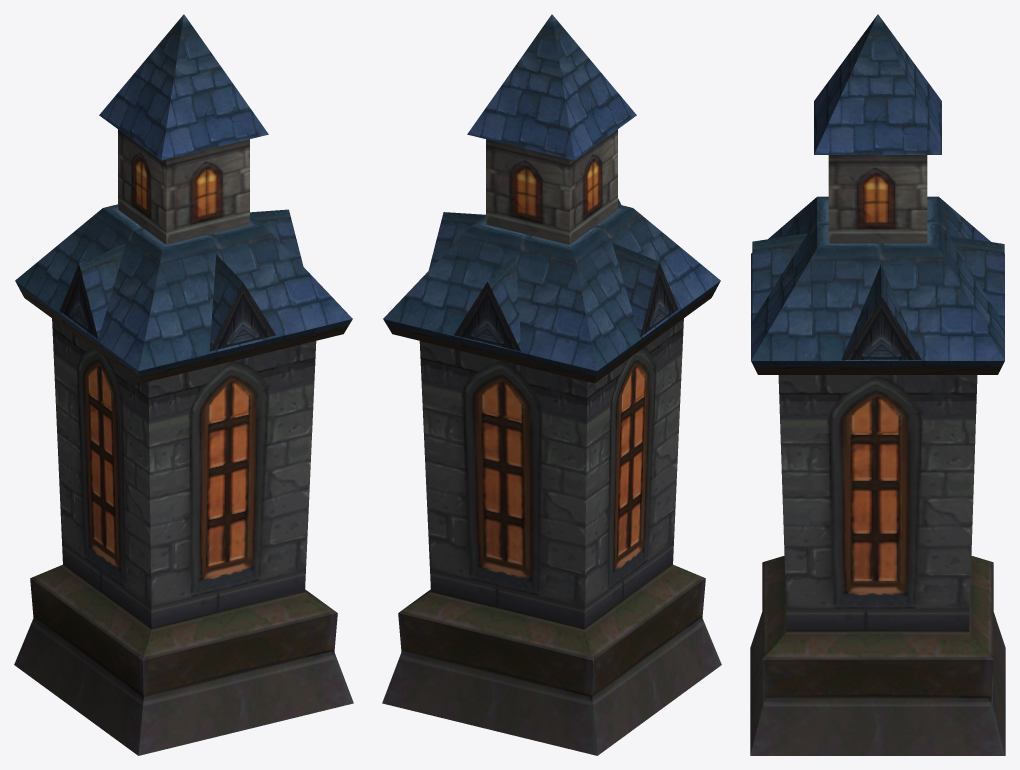
The model's file is Billboard_Level03.FBX.
The picture shows the model from 3 angles, left to right: view 1: azimuth 30°, elevation 25°; view 2: azimuth 150°, elevation 25°; view 3: azimuth 270°, elevation 25°; orthographic projection. The views are drawn at different scales.
Visible parts, largest first — view 1: Billboard_Level03; view 2: Billboard_Level03; view 3: Billboard_Level03.
Part boxes in pixels (x1,y1,x2,y2): Billboard_Level03: (14,14,353,755); Billboard_Level03: (382,14,721,755); Billboard_Level03: (750,14,1005,755).
Bounding box in the file's own units: 155 × 460 × 155.
